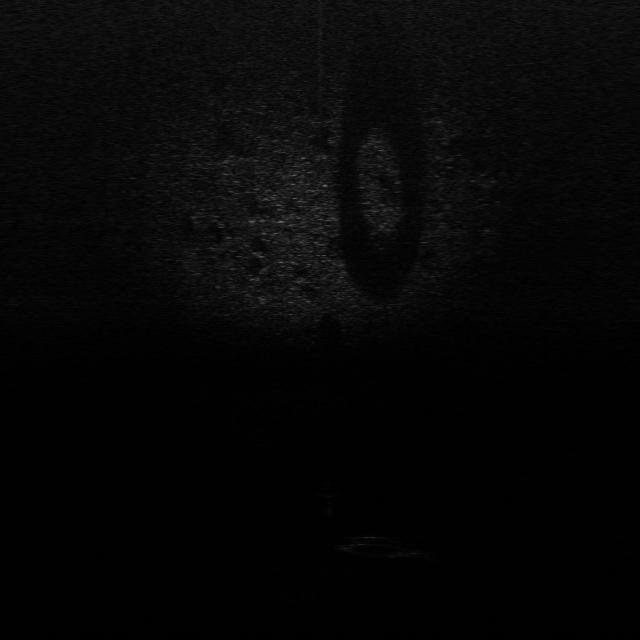ball: (310, 479, 346, 496)
tyre: (329, 535, 427, 561)
